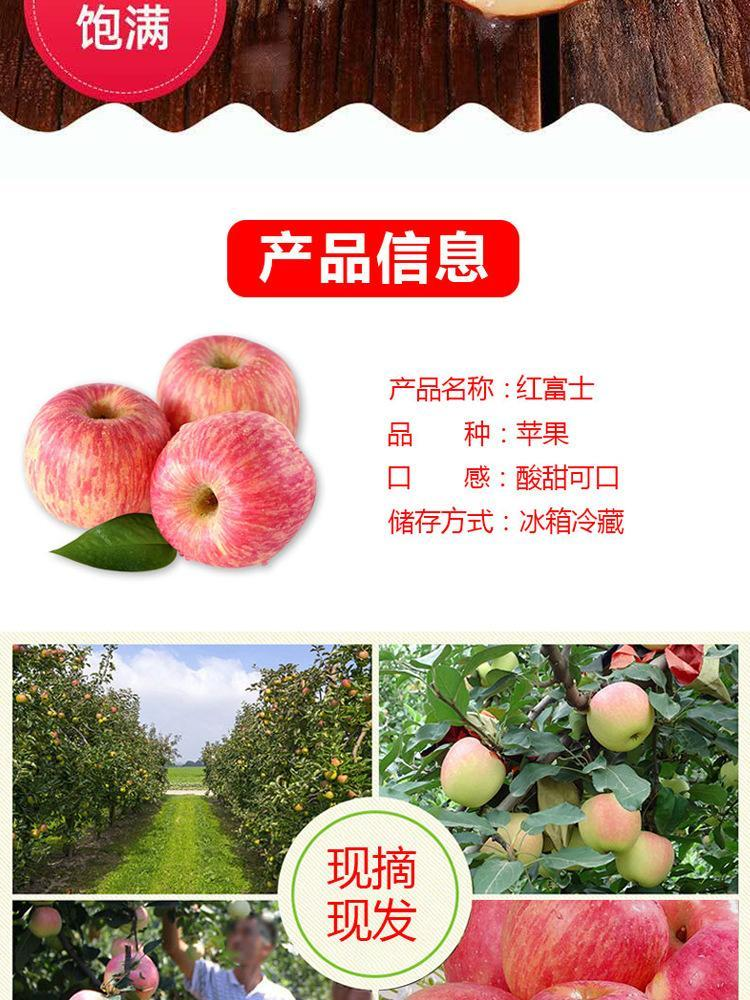apple: (147, 415, 317, 571), (22, 381, 171, 532), (500, 902, 671, 991), (158, 336, 300, 440), (437, 734, 507, 809), (585, 680, 653, 754), (578, 792, 641, 852), (614, 829, 672, 890), (102, 953, 163, 997)
